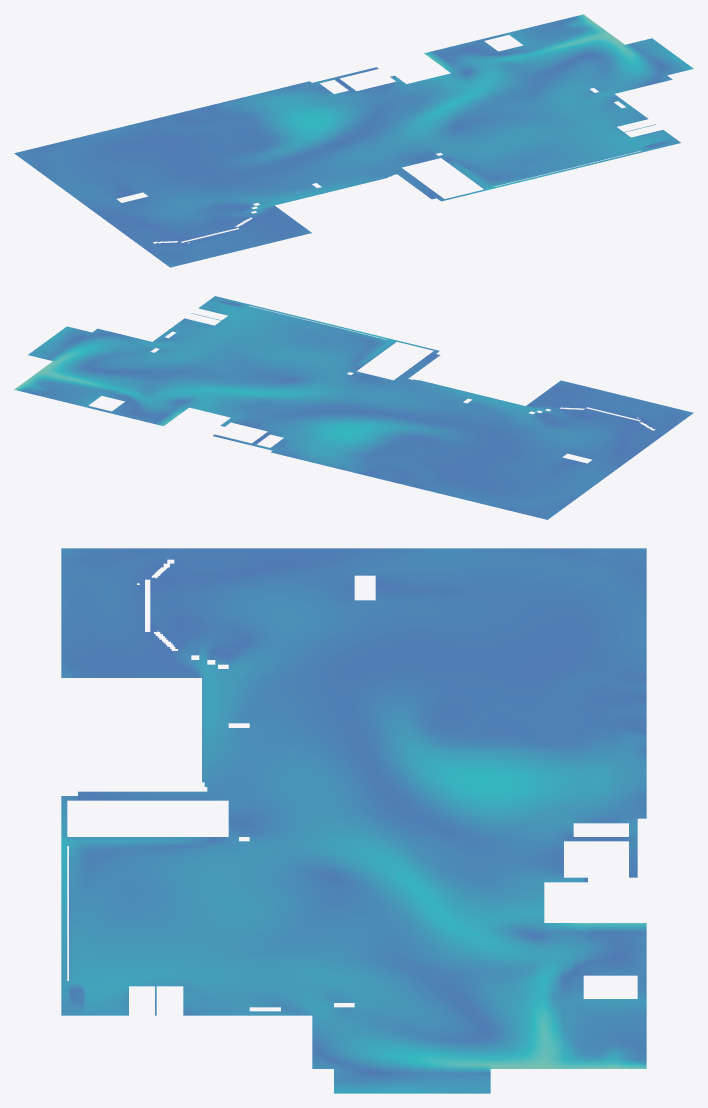
Rendered from A_velocity_z1.1.glb.
3 views of the same model, one above another, from view 1: azimuth 30°, elevation 25°; view 2: azimuth 150°, elevation 25°; view 3: azimuth 270°, elevation 25° (orthographic). The views are drawn at different scales.
Bounding box in the file's own units: 7.18 × 0 × 3.26.
